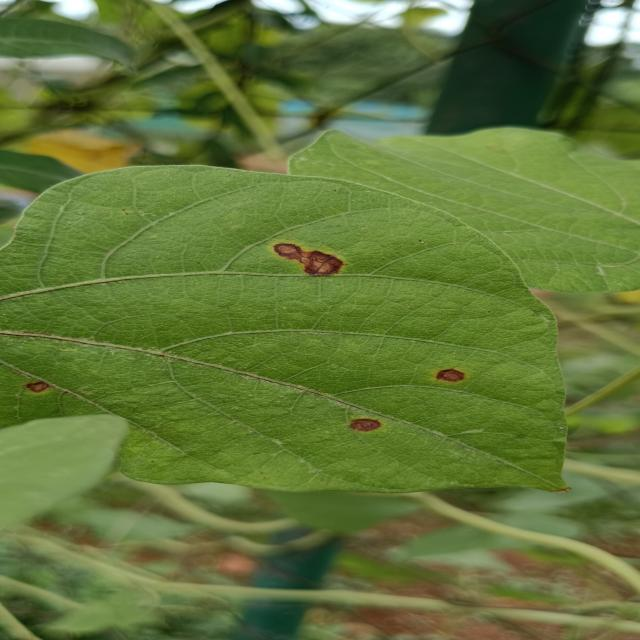Dolicos bean_cercospora leaf spot: (0, 160, 576, 497)
